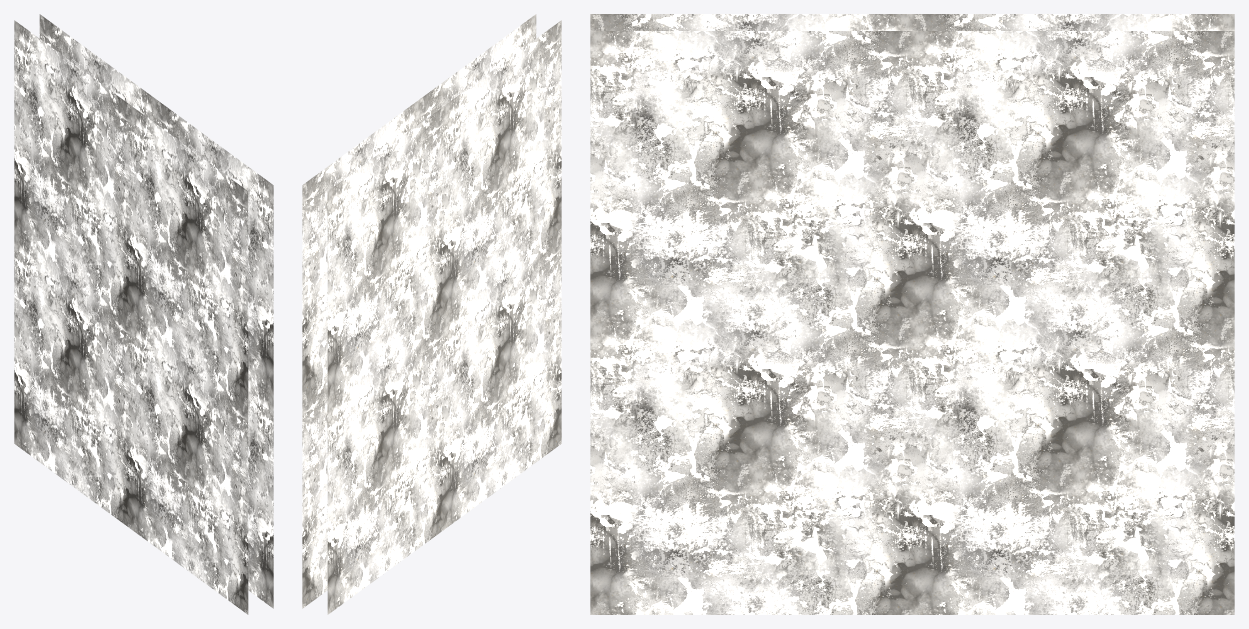
File: SM_wall_A_int_4x4_01_01.fbx
3 views of the same model, side by side, from view 1: azimuth 30°, elevation 25°; view 2: azimuth 150°, elevation 25°; view 3: azimuth 270°, elevation 25° (orthographic). The views are drawn at different scales.
Parts seen in each view (by area): view 1: SM_wall_A_int_4x4_01_01_LOD0; view 2: SM_wall_A_int_4x4_01_01_LOD0; view 3: SM_wall_A_int_4x4_01_01_LOD0.
Boxes of the visible parts, bbox=[...] form: SM_wall_A_int_4x4_01_01_LOD0: bbox=[14, 14, 273, 614]; SM_wall_A_int_4x4_01_01_LOD0: bbox=[302, 14, 561, 614]; SM_wall_A_int_4x4_01_01_LOD0: bbox=[590, 14, 1234, 614].
Size of the model in its own units: 25 by 400 by 400.
1 material, 1 textured.
